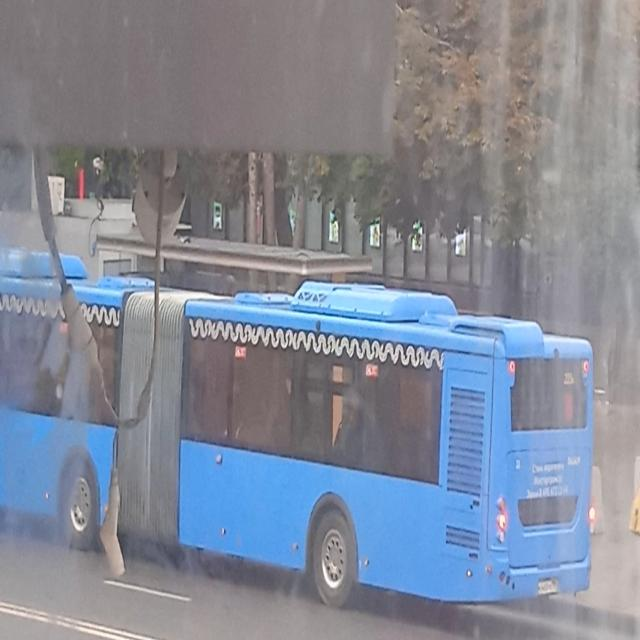bus: (0, 266, 616, 630)
